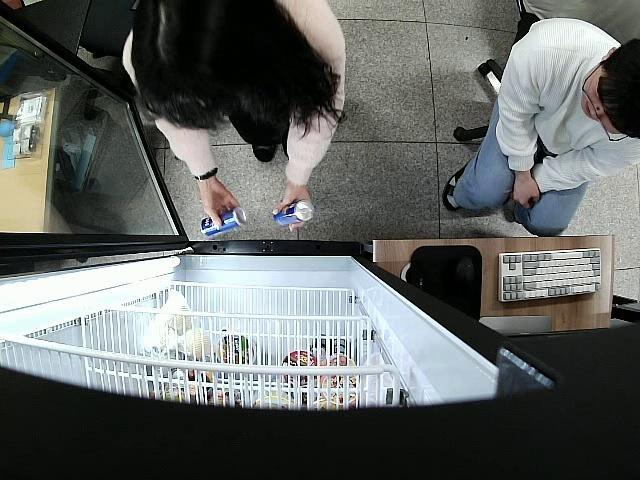16_hot6: (198, 208, 246, 237), (271, 199, 314, 228)
